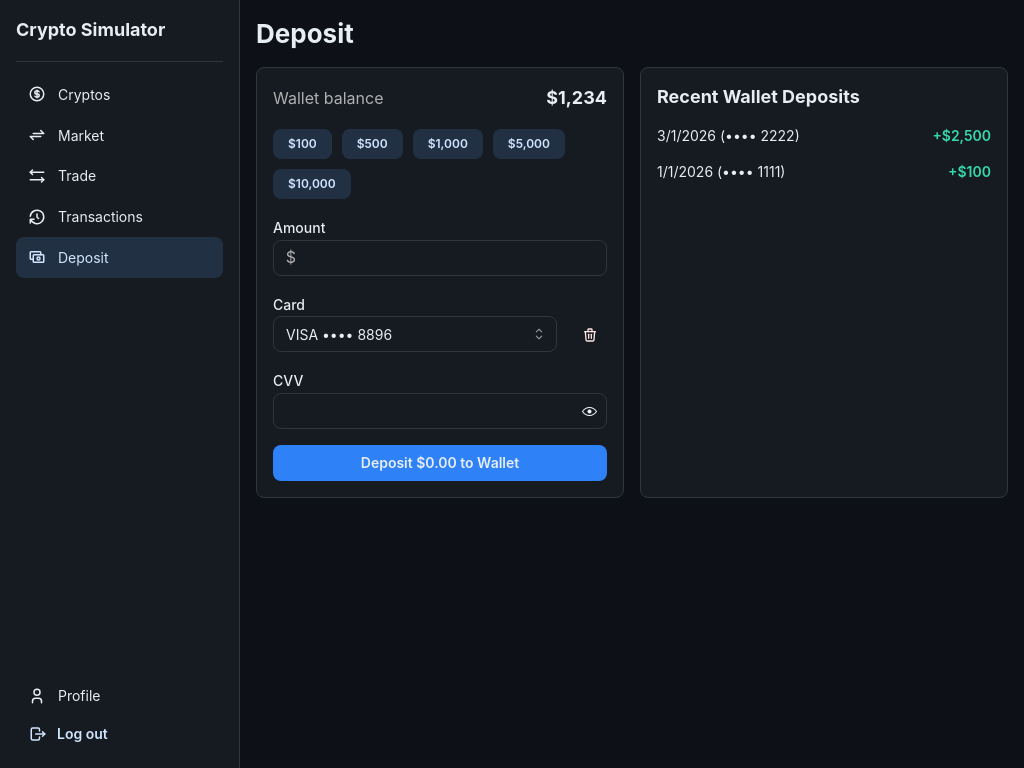
Test case: DepositPage › deposits with a saved card, sends no card number and refreshes the balance
expect the field showing "VISA •••• 8896" is shown: met, box x1=273 y1=316 x2=557 y2=352
Click the button "$500".
click(372, 144)  # box x1=342 y1=129 x2=403 y2=159
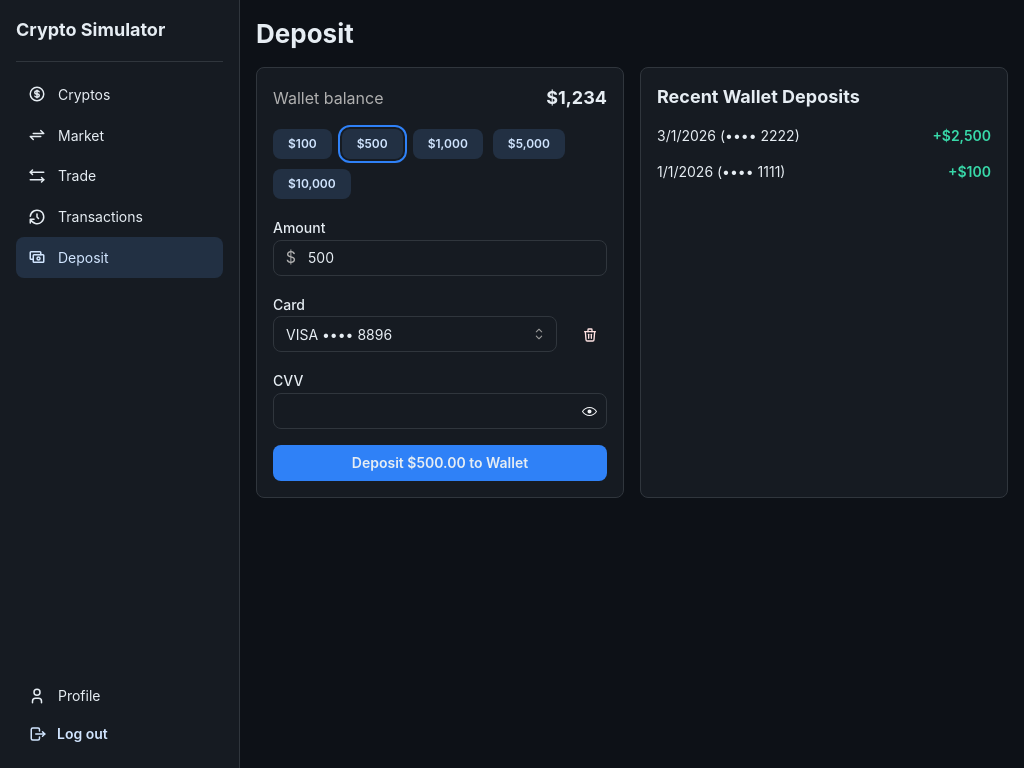
Type "842" into the password field labelled "CVV".
click(440, 411); type("842")  # box x1=274 y1=394 x2=606 y2=428
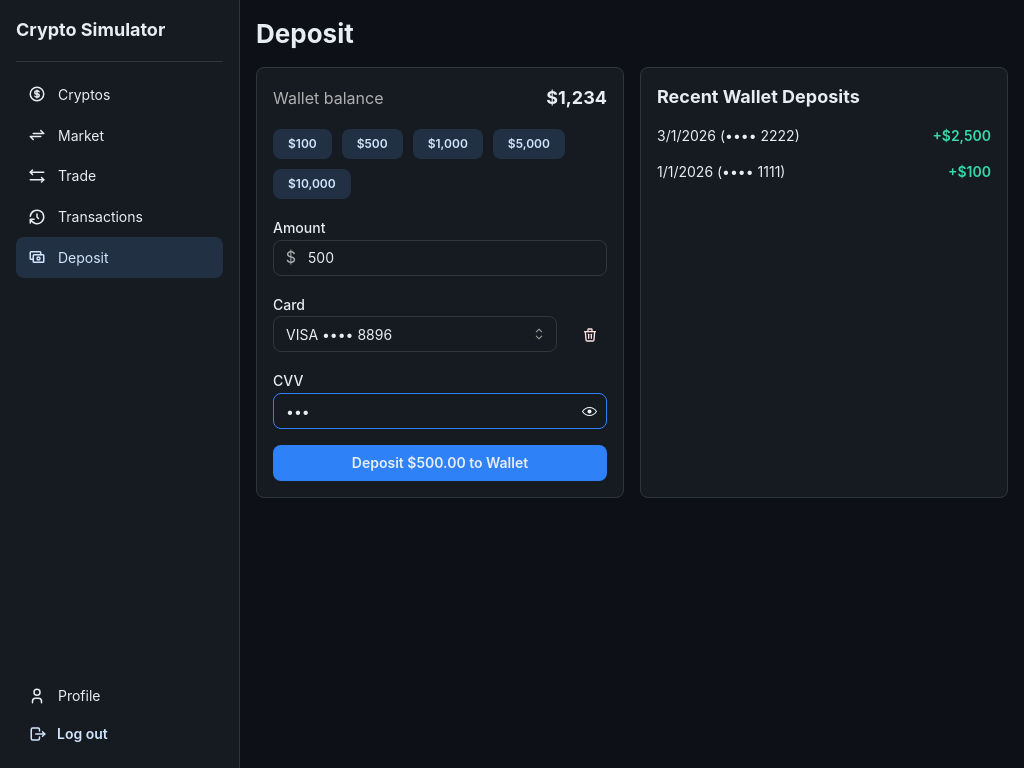
Click the button "Deposit $500.00 to Wallet".
click(440, 463)  # box x1=273 y1=445 x2=607 y2=481
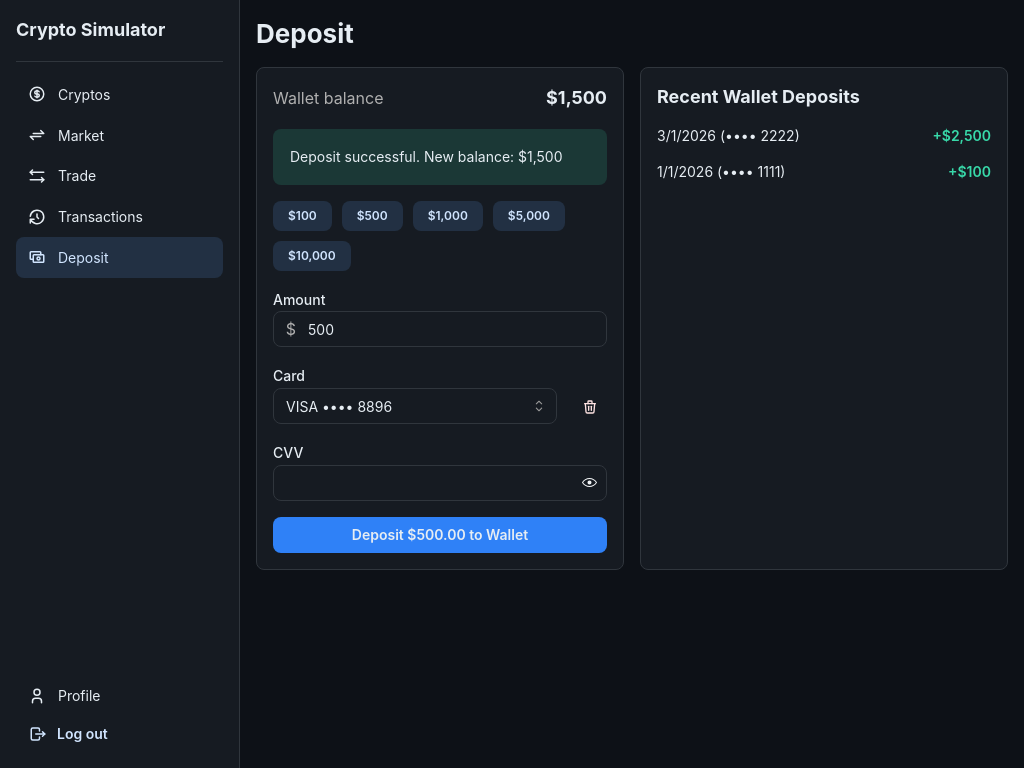
expect the text "Deposit successful. New balance: $1,500" is shown: met, box x1=290 y1=146 x2=590 y2=168
expect the password field labelled "CVV" is empty: met, box x1=274 y1=466 x2=606 y2=500
